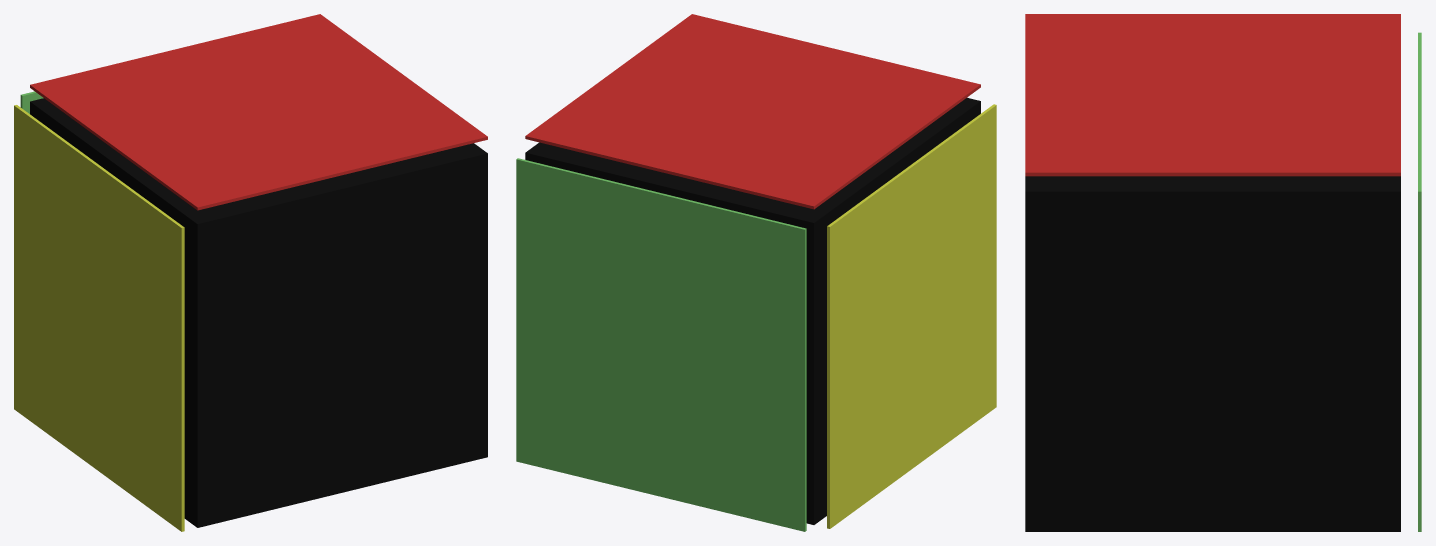
Rendered from yrg.glb.
3 renders of one model, left to right at view 1: azimuth 30°, elevation 25°; view 2: azimuth 150°, elevation 25°; view 3: azimuth 270°, elevation 25°, orthographic. The views are drawn at different scales.
Parts seen in each view (by area): view 1: Cube, yellow-1, red-3; view 2: blue-3, yellow-1, red-3, Cube; view 3: Cube, red-3, blue-3.
Boxes of the visible parts, x1,y1,x2,y2 form: Cube: (30, 98, 487, 527); yellow-1: (14, 105, 184, 531); red-3: (30, 14, 487, 210); blue-3: (516, 158, 806, 531); yellow-1: (827, 104, 996, 528); red-3: (525, 14, 980, 209); Cube: (525, 97, 980, 524); Cube: (1025, 176, 1400, 531); red-3: (1025, 14, 1400, 176); blue-3: (1418, 32, 1421, 531).
Bounding box in the file's own units: 2.11 × 2.11 × 2.11.
